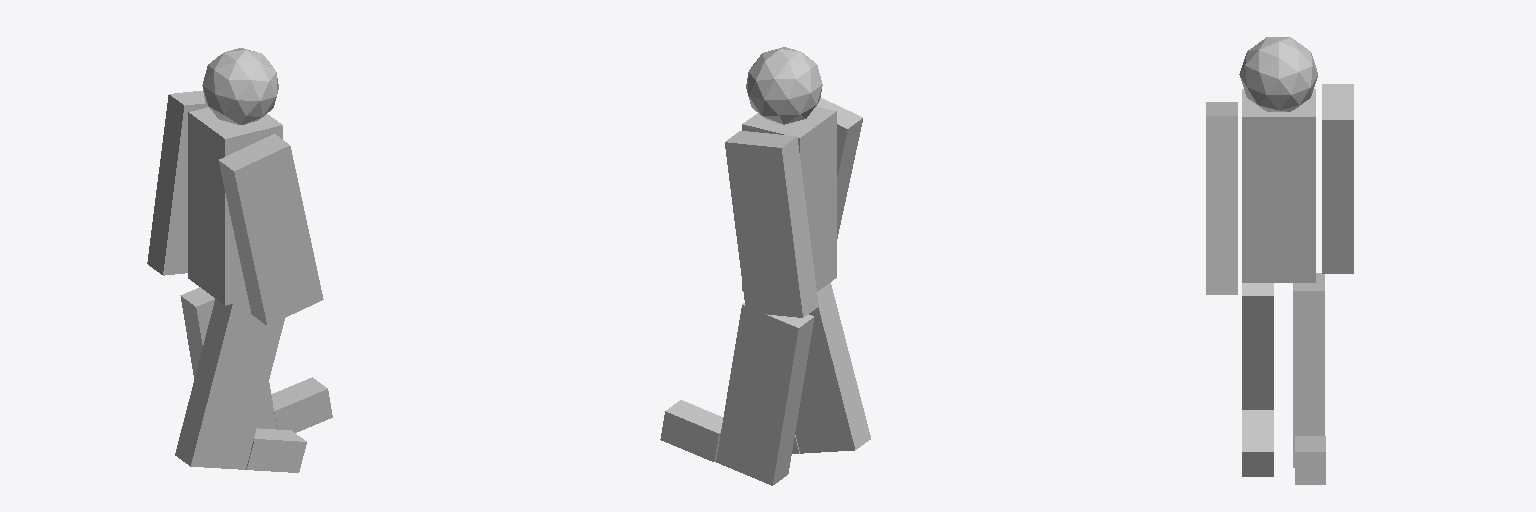
Rendered from player_000070.obj.
3 renders of one model, left to right at view 1: azimuth 30°, elevation 25°; view 2: azimuth 150°, elevation 25°; view 3: azimuth 270°, elevation 25°, orthographic.
Visible parts, largest first — view 1: Cube.005, Cube.001, Cube, Cube.006, Icosphere, Cube.004, Cube.003, Cube.002; view 2: Cube.006, Cube.002, Cube.001, Cube, Icosphere, Cube.004, Cube.005; view 3: Cube, Cube.005, Cube.006, Cube.002, Icosphere, Cube.001, Cube.003, Cube.004.
Boxes of the visible parts, box(x1,y1,x2,y2) form: Cube.005: box(218, 134, 323, 325); Cube.001: box(175, 296, 284, 469); Cube: box(188, 107, 282, 305); Cube.006: box(147, 91, 208, 275); Icosphere: box(202, 48, 278, 124); Cube.004: box(271, 377, 332, 432); Cube.003: box(246, 428, 306, 472); Cube.002: box(180, 287, 276, 429); Cube.006: box(725, 131, 818, 317); Cube.002: box(716, 303, 813, 485); Cube.001: box(795, 282, 870, 453); Cube: box(742, 106, 836, 291); Icosphere: box(746, 47, 822, 124); Cube.004: box(660, 400, 722, 461); Cube.005: box(817, 98, 862, 238); Cube: box(1242, 89, 1315, 282); Cube.005: box(1206, 102, 1237, 294); Cube.006: box(1322, 84, 1353, 273); Cube.002: box(1293, 273, 1324, 467); Icosphere: box(1239, 37, 1317, 111); Cube.001: box(1242, 283, 1273, 409); Cube.003: box(1242, 410, 1273, 476); Cube.004: box(1295, 436, 1325, 484).
Size of the model in its own units: 1.21 by 2.86 by 0.9137.